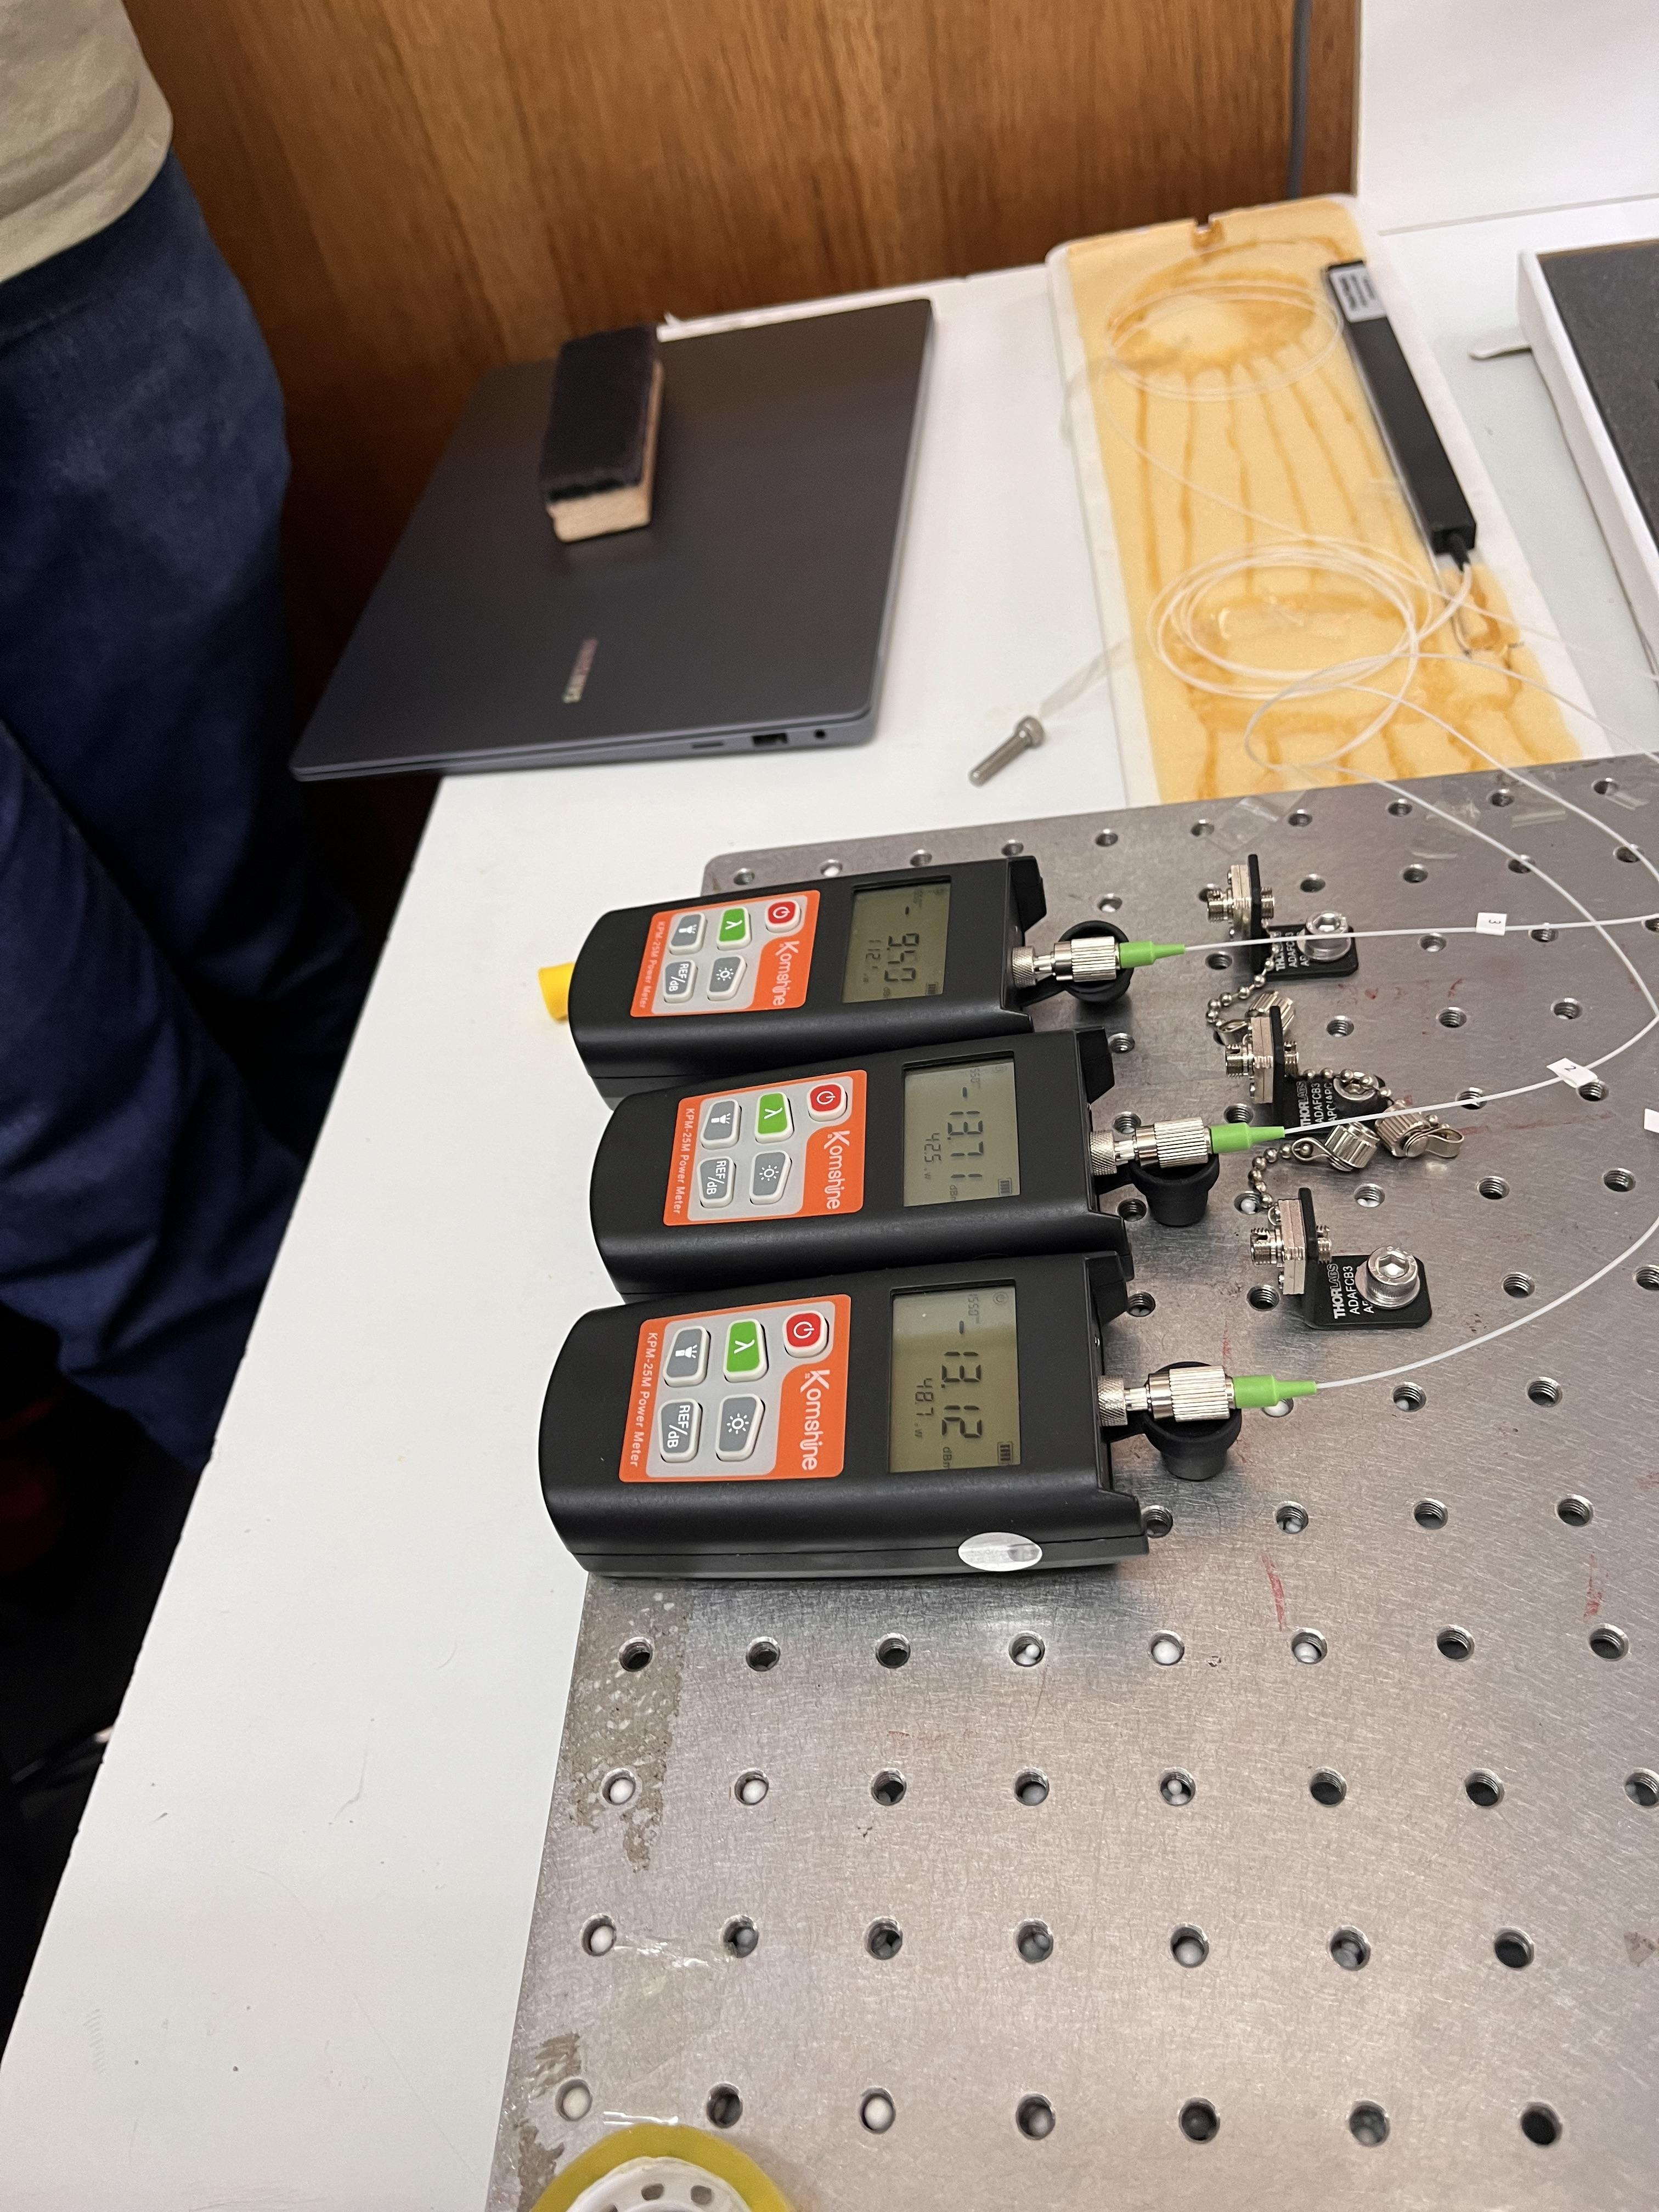powermeter: (530, 1249, 1159, 1594), (586, 1024, 1134, 1303), (549, 846, 1032, 1116)
